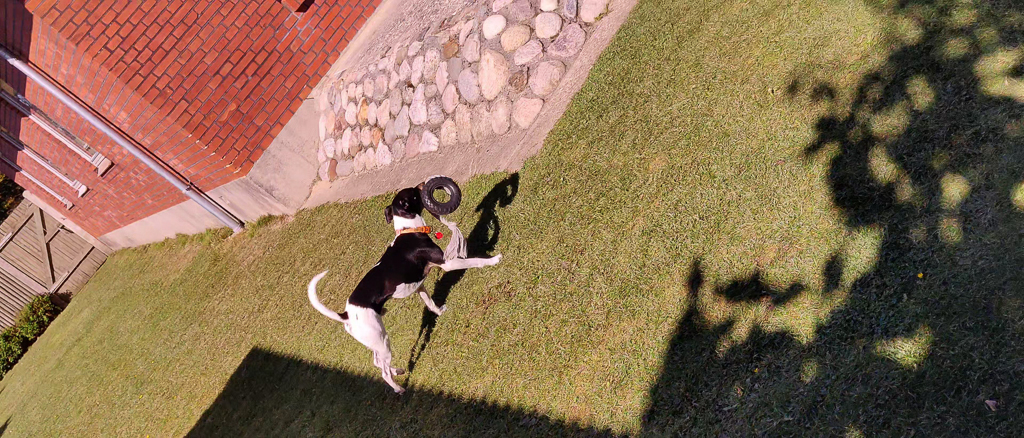Dog: (300, 176, 511, 402)
